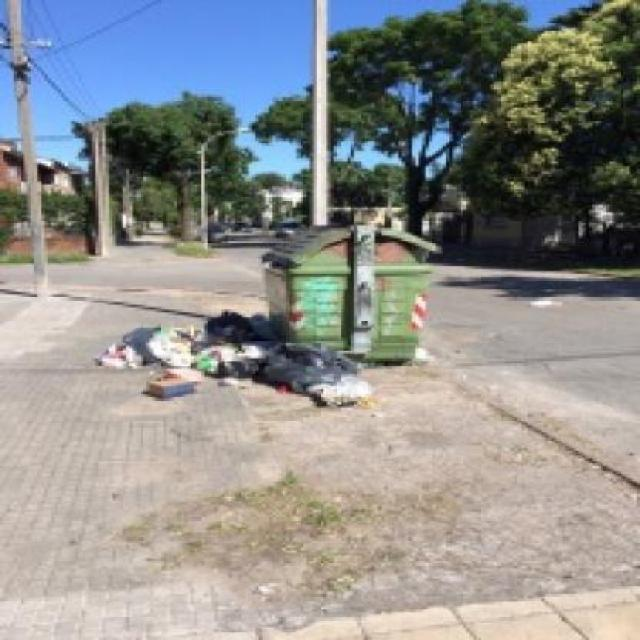garbage: (96, 289, 395, 409)
